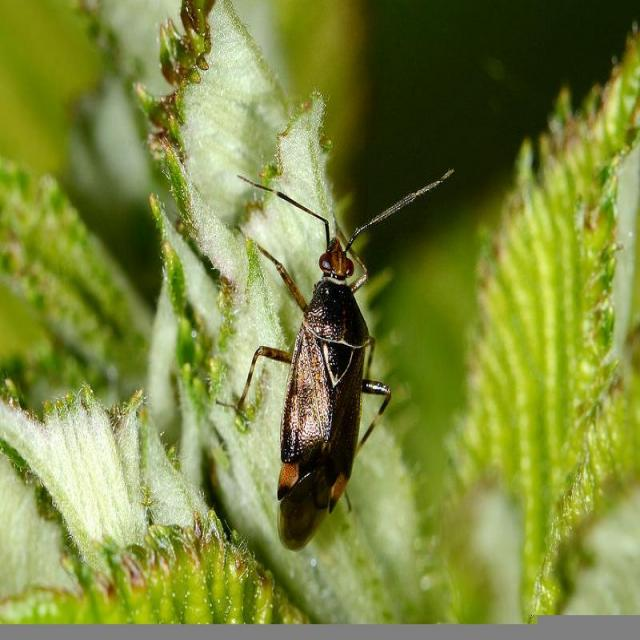Miridae-Adult-: (219, 164, 466, 562)
